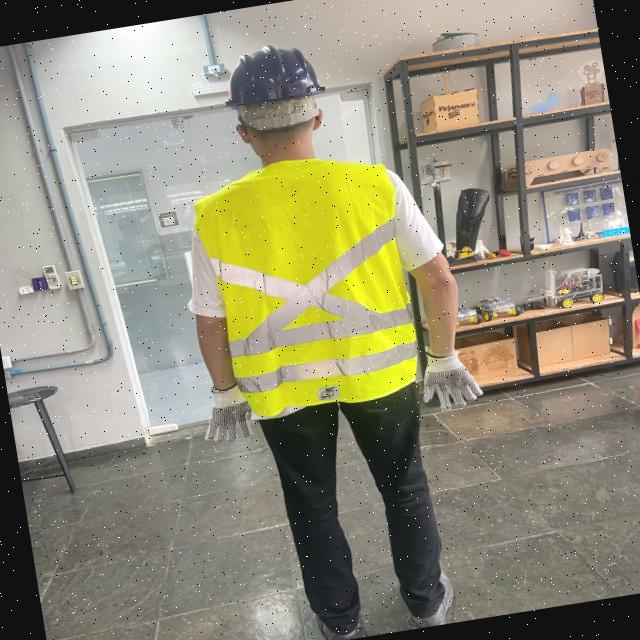BOTA: (309, 578, 377, 640), (406, 563, 457, 627)
CAPACETE: (219, 41, 333, 134)
COLETE: (197, 156, 428, 424)
LUVA: (418, 339, 495, 413), (196, 383, 263, 445)
